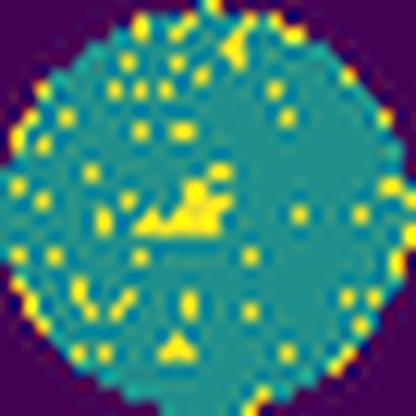Center: (135, 181, 236, 237)
